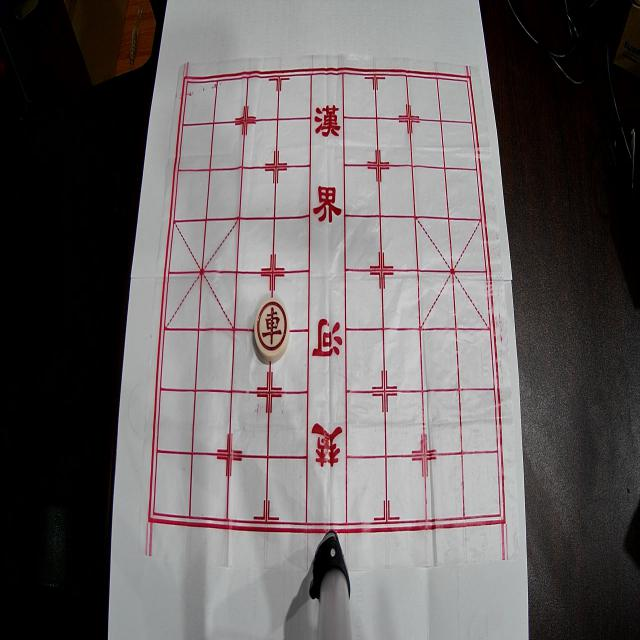red-chariot: (254, 297, 290, 362)
